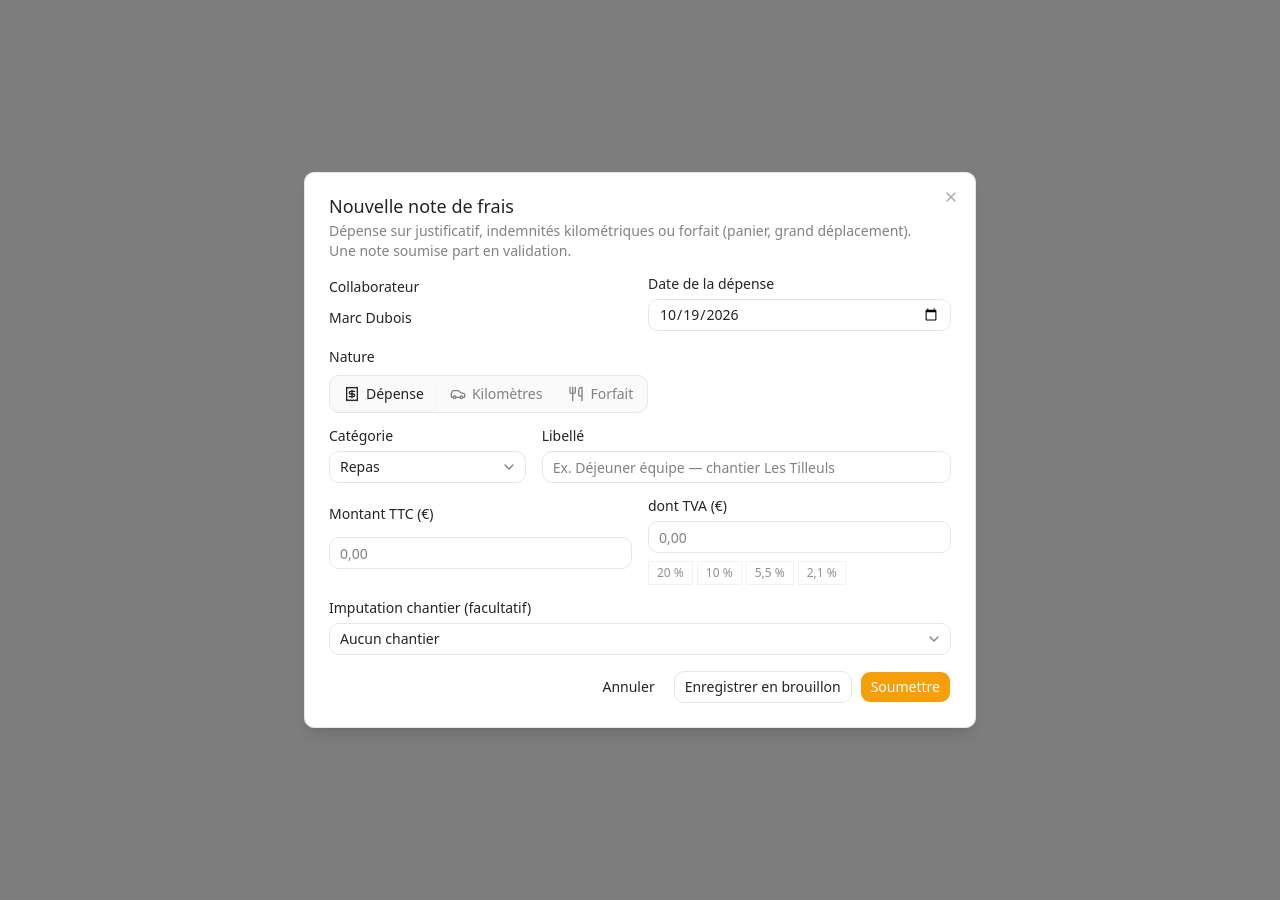
Test: NoteFraisDialog › affiche l’erreur renvoyée par le serveur
The image size is (1280, 900).
Type "Péage A7" into the field labelled "Libellé" at (746, 467), box [542,451,951,483]
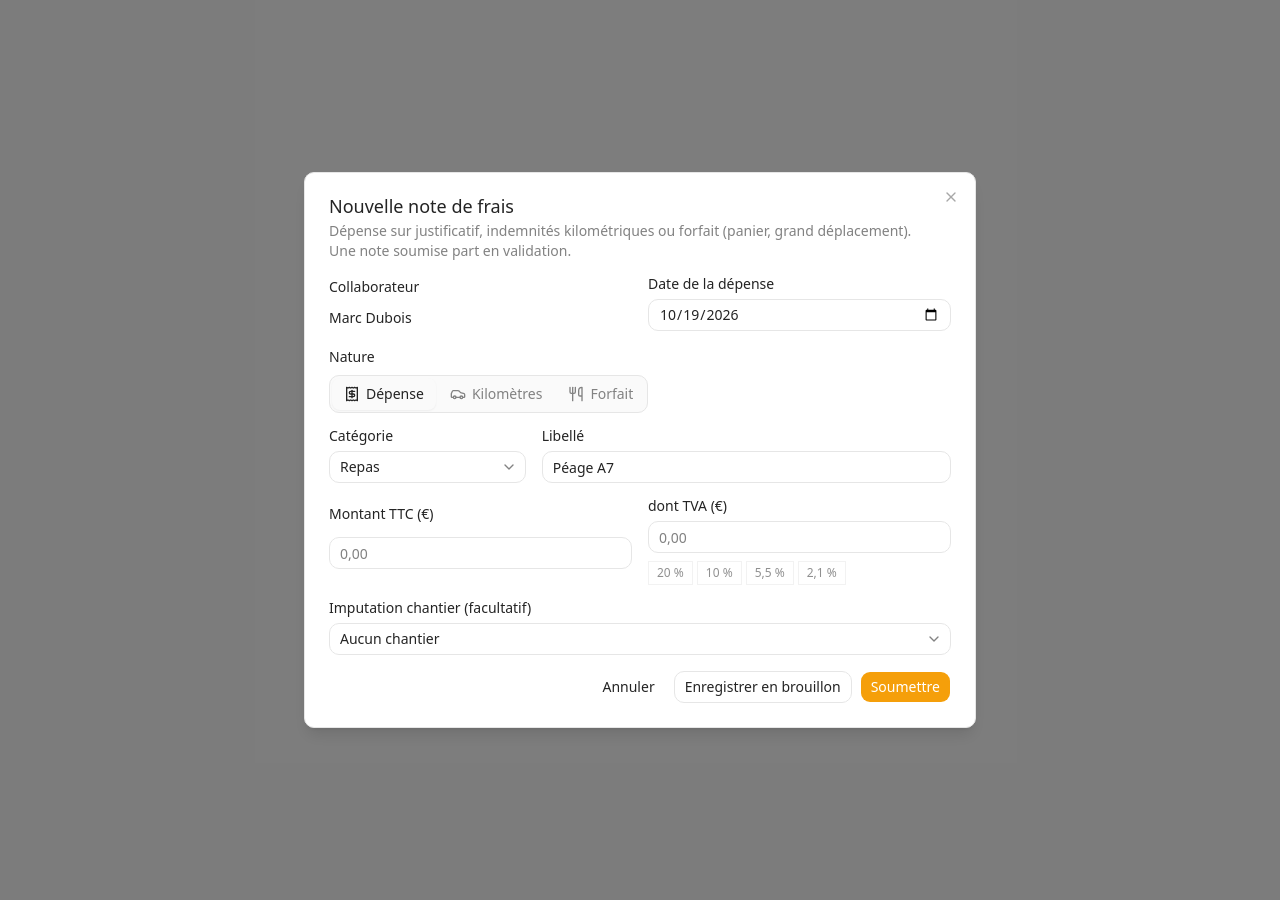
Type "12" into the field labelled "Montant TTC (€)" at (480, 553), box [329,537,632,569]
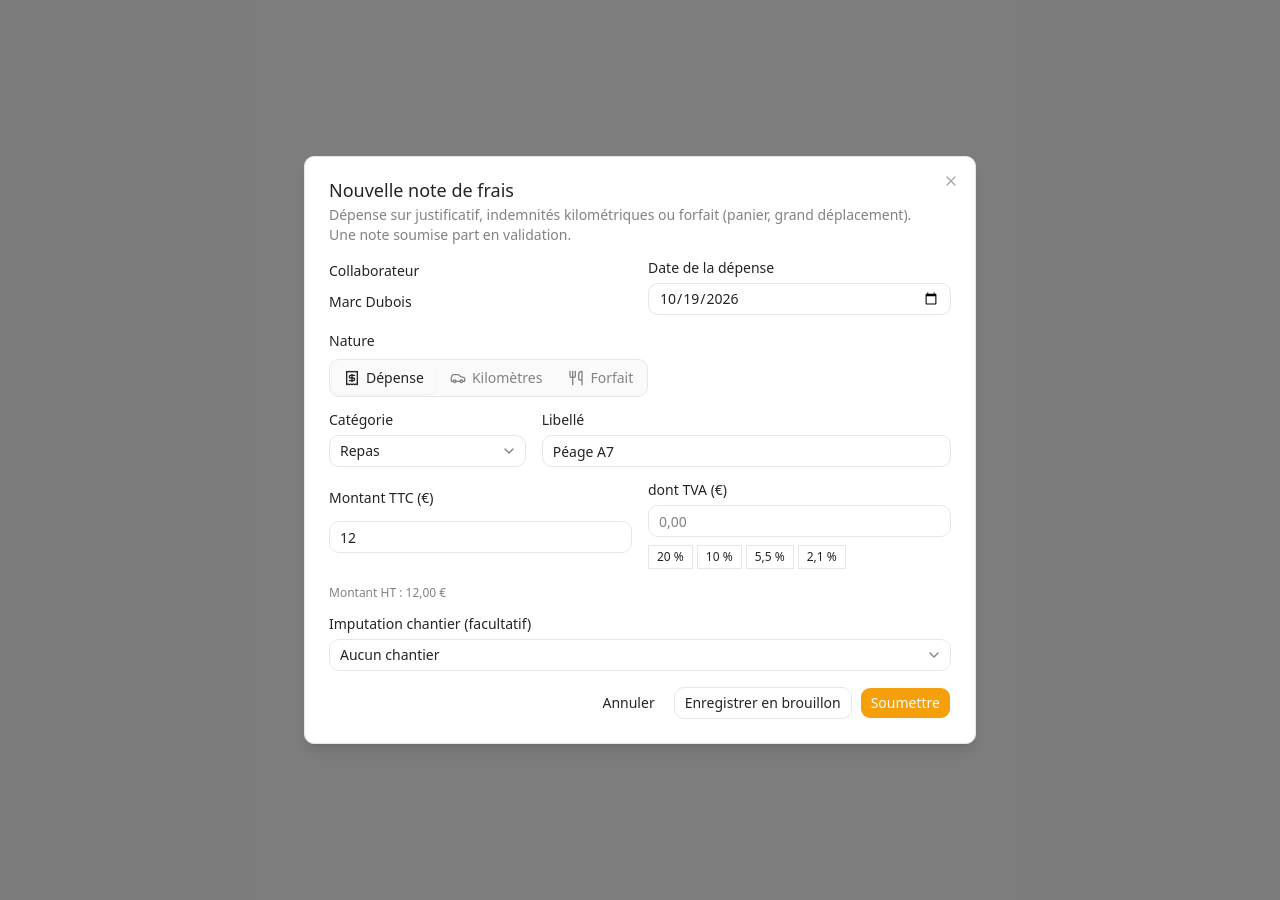
Click the button "Soumettre" at (905, 703), box [860,687,951,719]
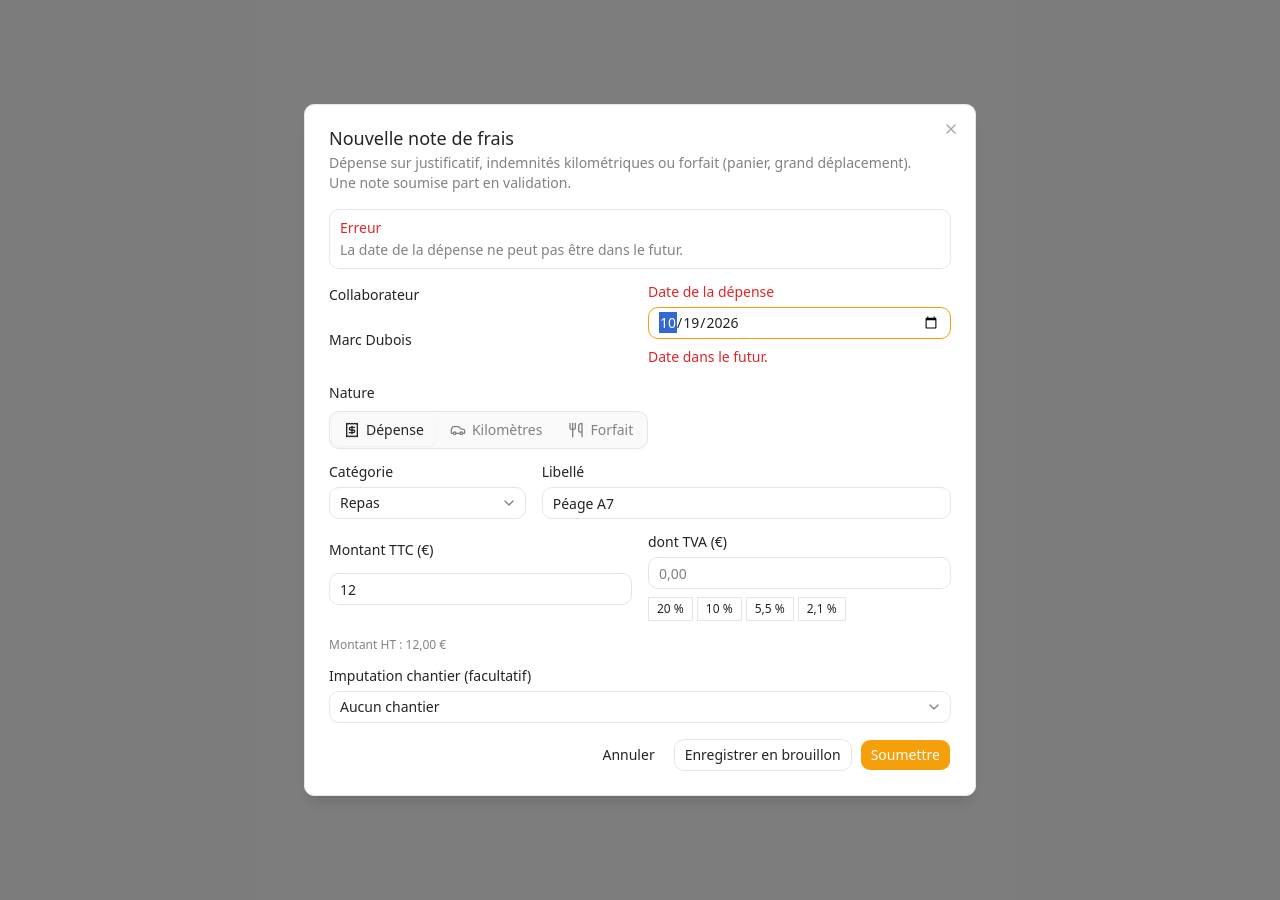
Expected: the text "La date de la dépense ne peut pas être dans le futur." is shown, [340,240,683,259]
Expected: the text "Date dans le futur." is shown, [648,347,768,366]
